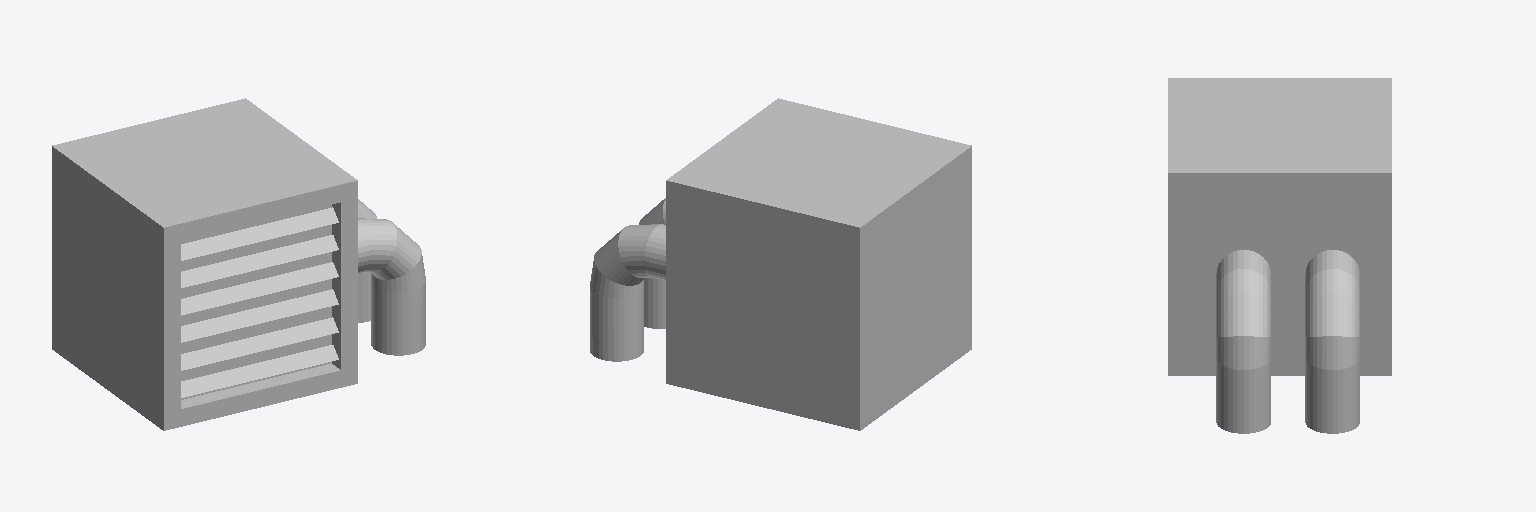
File: skyscraper1assets1.obj
The picture shows the model from 3 angles: view 1: azimuth 30°, elevation 25°; view 2: azimuth 150°, elevation 25°; view 3: azimuth 270°, elevation 25°; orthographic projection.
Visible parts, largest first — view 1: Cube.001_Cube.004, Cylinder.000_Cylinder.003, Cylinder.001; view 2: Cube.001_Cube.004, Cylinder.001, Cylinder.000_Cylinder.003; view 3: Cube.001_Cube.004, Cylinder.000_Cylinder.003, Cylinder.001.
Part boxes in pixels (bbox=[...]): Cube.001_Cube.004: bbox=[52, 98, 357, 430]; Cylinder.000_Cylinder.003: bbox=[358, 218, 425, 355]; Cylinder.001: bbox=[358, 199, 376, 322]; Cube.001_Cube.004: bbox=[666, 98, 971, 430]; Cylinder.001: bbox=[590, 224, 665, 361]; Cylinder.000_Cylinder.003: bbox=[639, 198, 665, 328]; Cube.001_Cube.004: bbox=[1168, 78, 1391, 375]; Cylinder.000_Cylinder.003: bbox=[1216, 250, 1270, 433]; Cylinder.001: bbox=[1305, 250, 1359, 433].
Bounding box in the file's own units: 3.05 × 2.07 × 2.